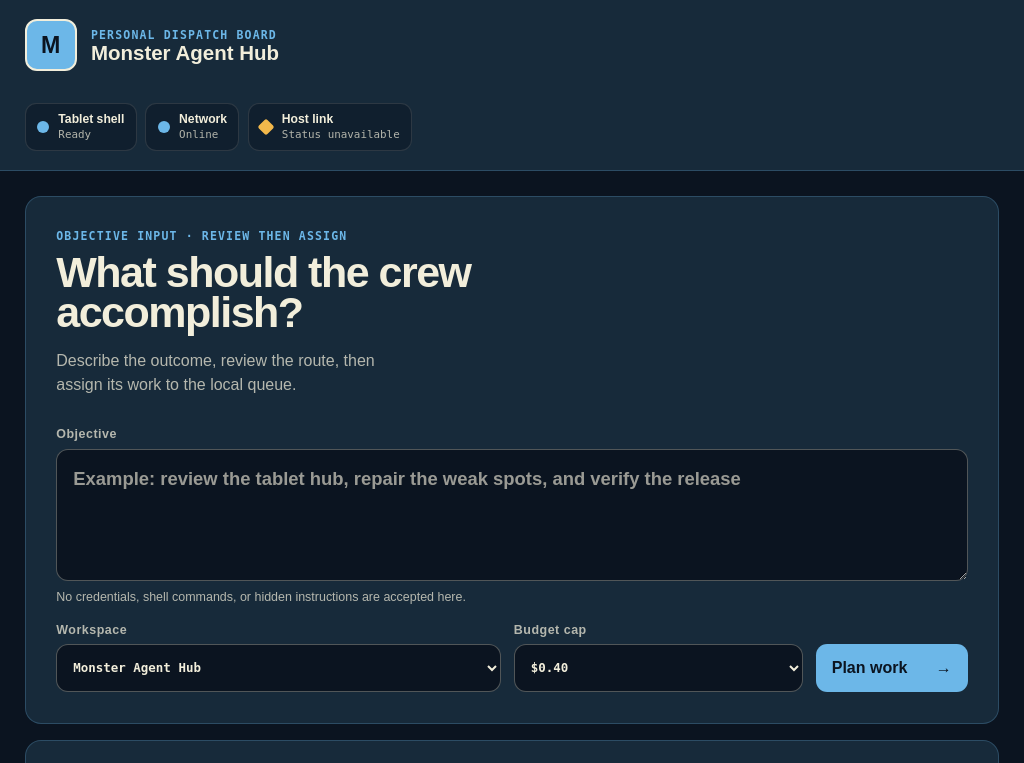
Monster Agent Hub tablet shell › aborts and ignores an in-flight preview when the objective changes
Type "Audit the tablet hub, fix the accessibility issues, and verify the release." into the text box labelled "Objective" at (512, 514), box [56,448,968,580]
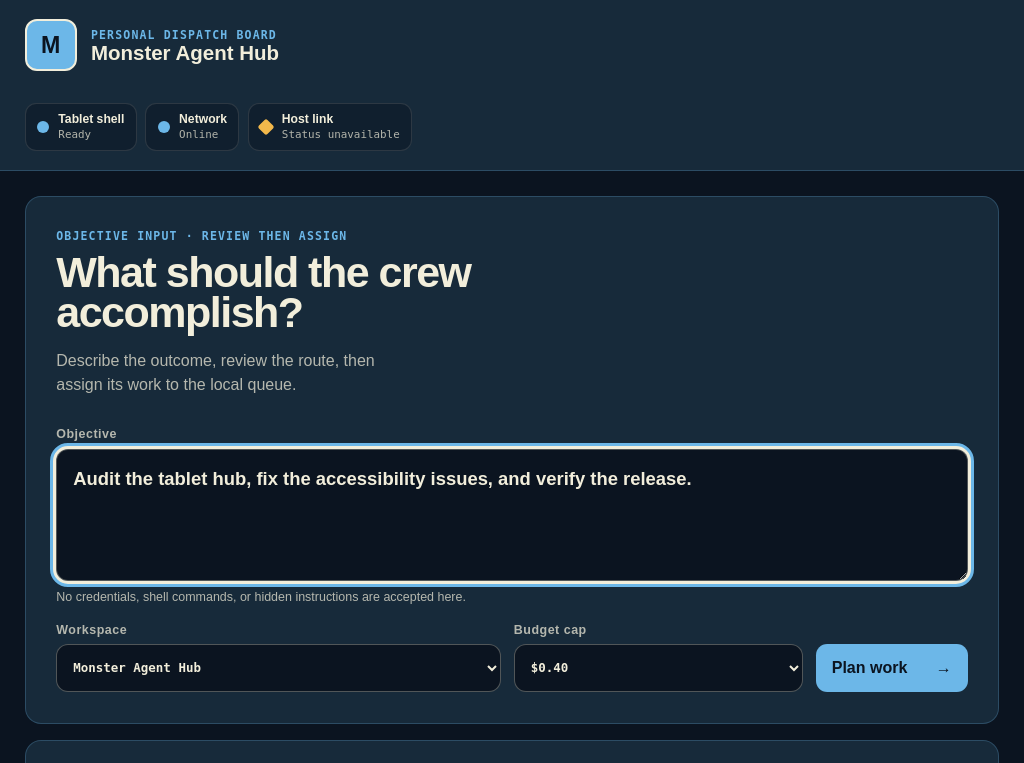
Click the button "Plan work →" at (892, 668), box [816,644,968,692]
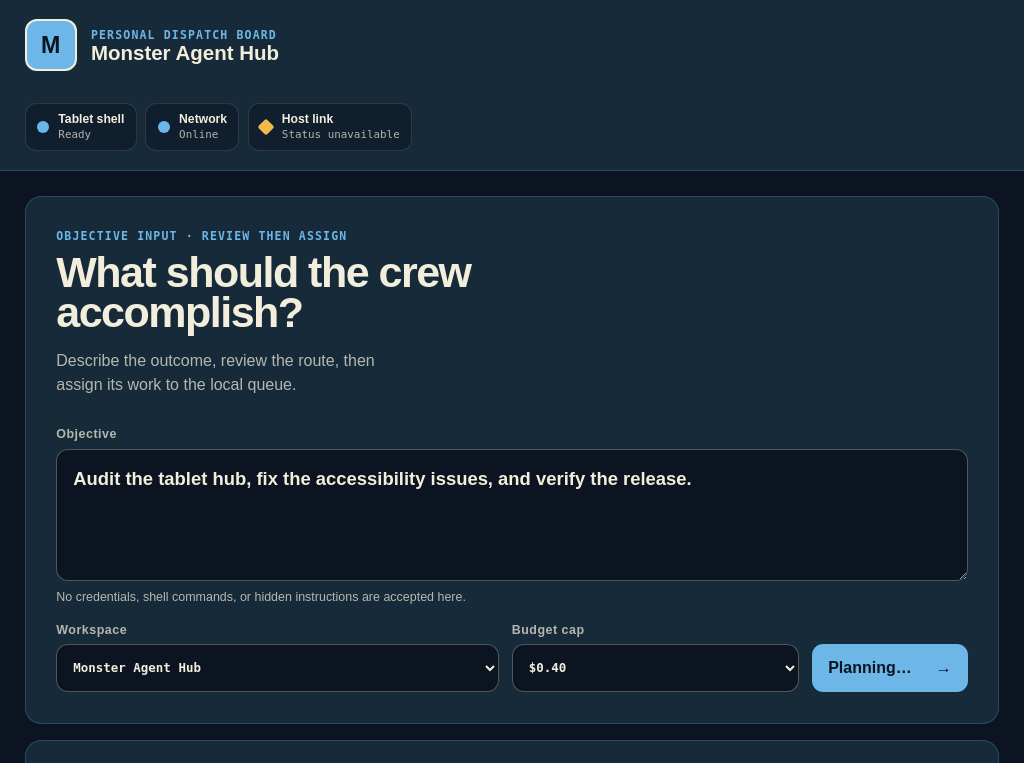
Type " Use the revised scope." into the text box labelled "Objective" at (512, 514), box [56,448,968,580]
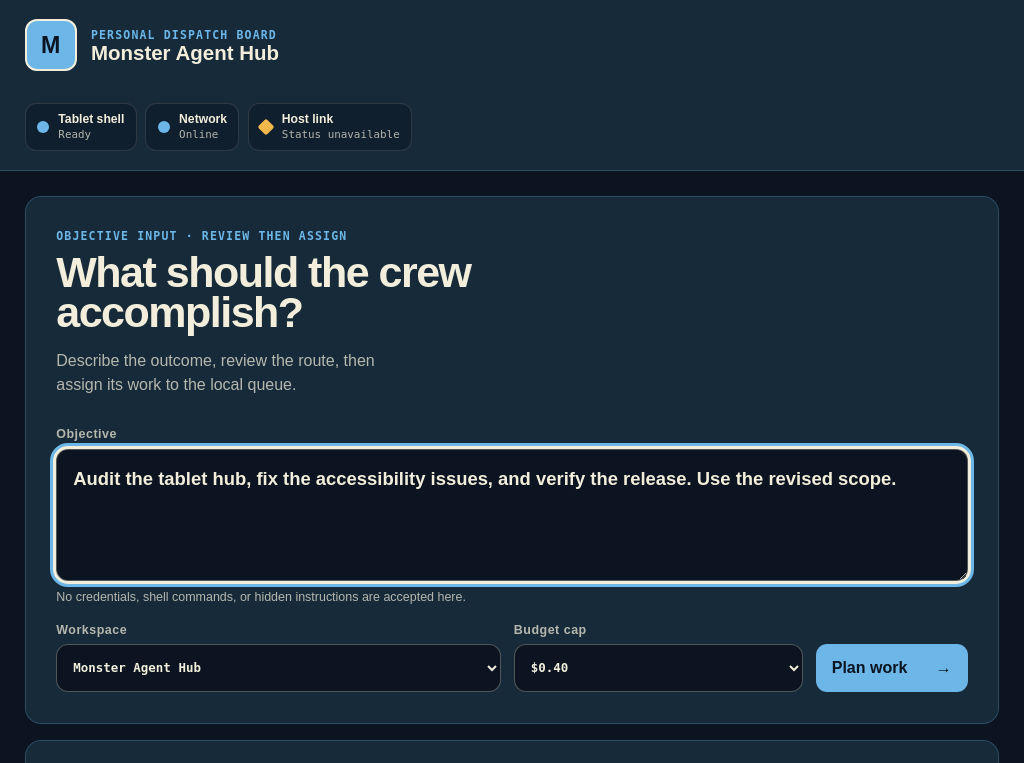
Check: the button "Plan work →" is enabled, box [816,644,968,692]
